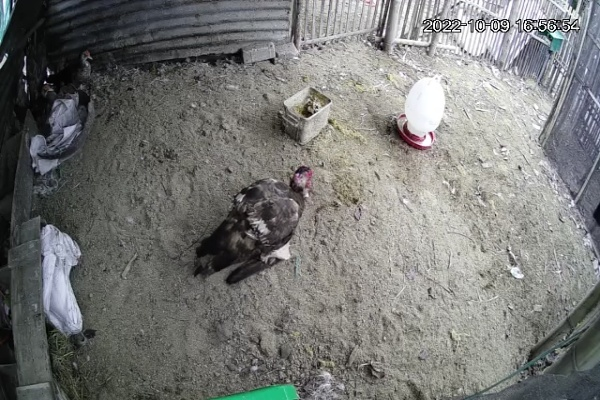Kawin: (189, 159, 318, 293)
